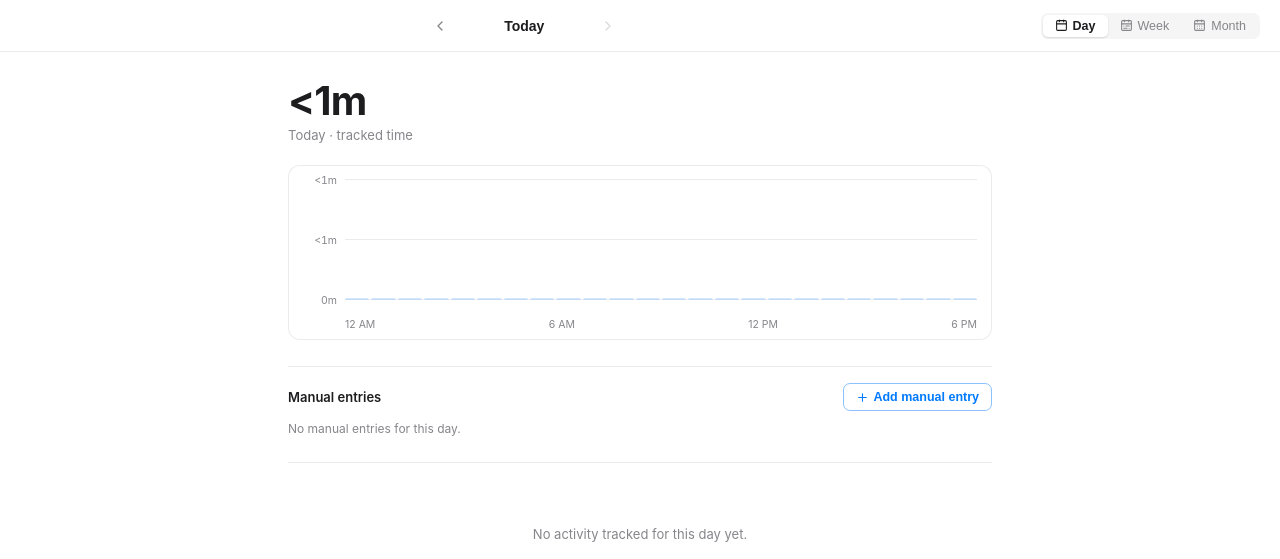
Test: offers manual entry on an empty day and keeps it out of week view
The width and height of the screenshot is (1280, 559).
Expected: the button "Add manual entry" is shown, x1=843 y1=383 x2=992 y2=411
Click the button "Week": (1144, 26) x1=1108 y1=14 x2=1181 y2=36
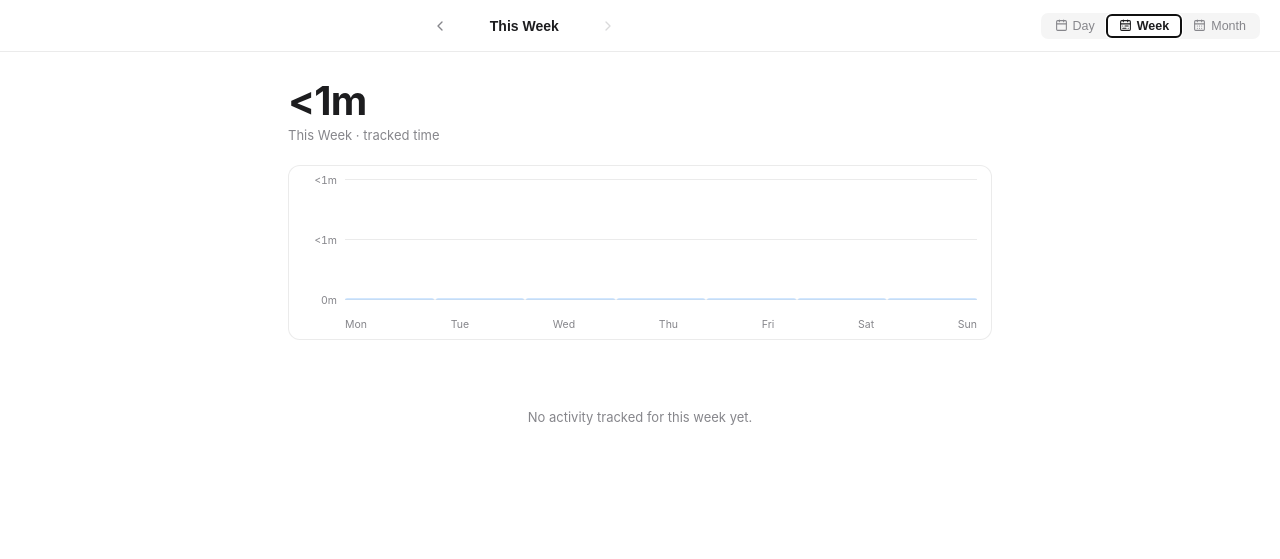
Expected: the button "Add manual entry" is gone
